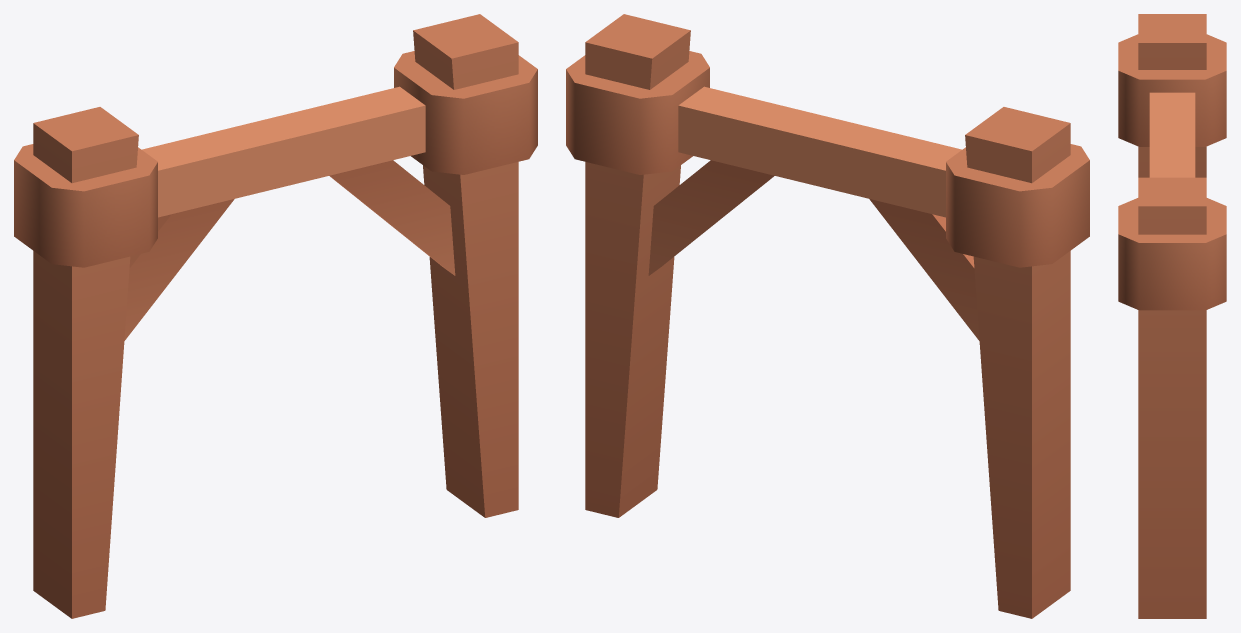
File: wood-support.glb
3 renders of one model, left to right at view 1: azimuth 30°, elevation 25°; view 2: azimuth 150°, elevation 25°; view 3: azimuth 270°, elevation 25°, orthographic. The views are drawn at different scales.
Visible parts, largest first — view 1: wood-support; view 2: wood-support; view 3: wood-support.
Boxes of the visible parts, left/top/right/bottom form: wood-support: left=14, top=14, right=537, bottom=618; wood-support: left=566, top=14, right=1089, bottom=618; wood-support: left=1118, top=14, right=1226, bottom=618.
Bounding box in the file's own units: 1.09 × 1 × 0.2381.
Materials: 1 (1 with a texture image).
